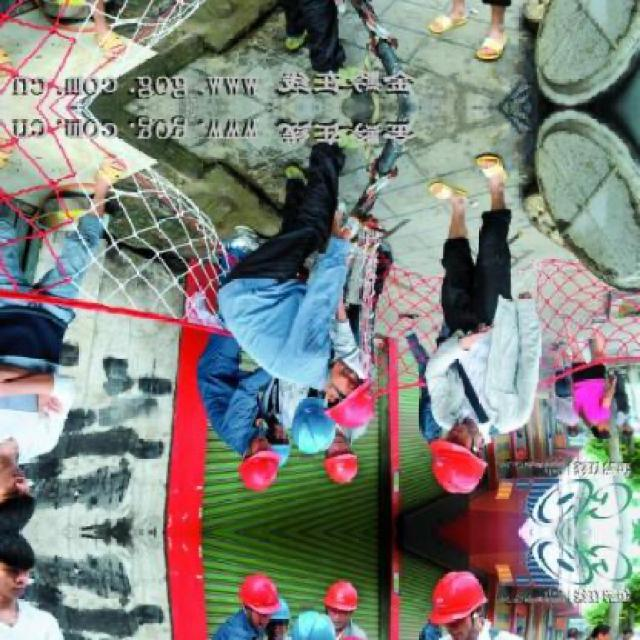con casco: (281, 340, 420, 424), (404, 402, 489, 505), (226, 422, 291, 490), (331, 438, 395, 497)
